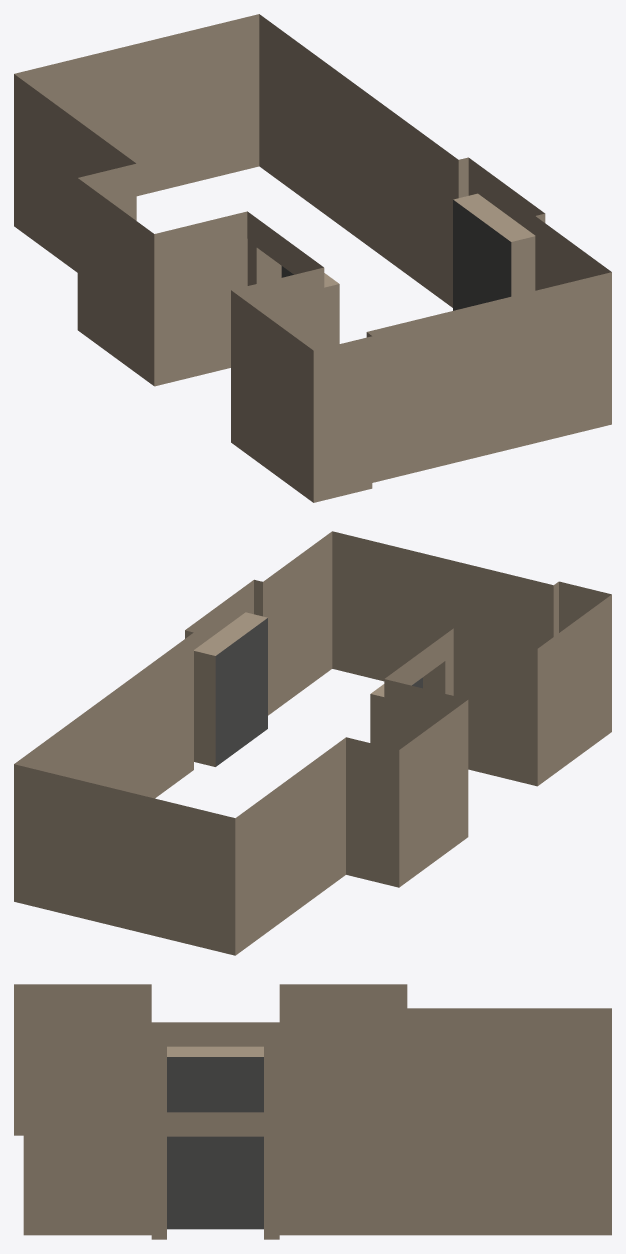
File: building4_ground.fbx
3 renders of one model, top to bottom at view 1: azimuth 30°, elevation 25°; view 2: azimuth 150°, elevation 25°; view 3: azimuth 270°, elevation 25°, orthographic. The views are drawn at different scales.
Visible parts, largest first — view 1: building4_ground; view 2: building4_ground; view 3: building4_ground.
Part boxes in pixels (x1,y1,x2,y2): building4_ground: (14,14,611,502); building4_ground: (14,531,611,955); building4_ground: (14,984,611,1239).
Size of the model in its own units: 755 by 350 by 1492.
